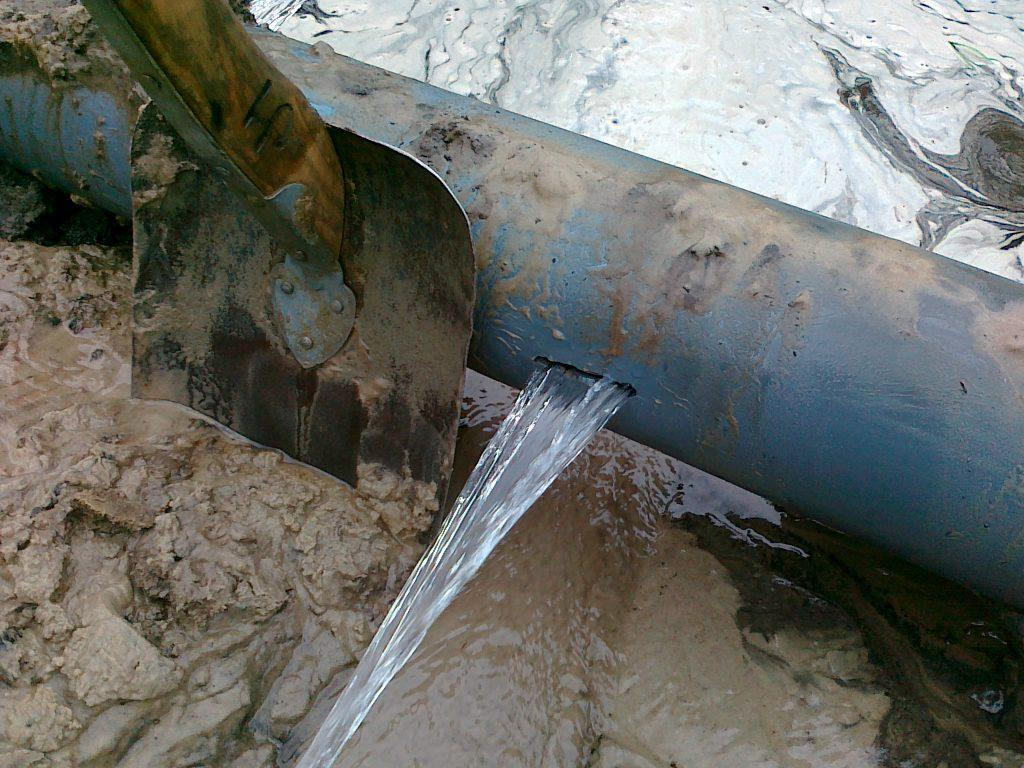pipe burst: (289, 356, 637, 767)
water accumulation: (243, 0, 1023, 768)
